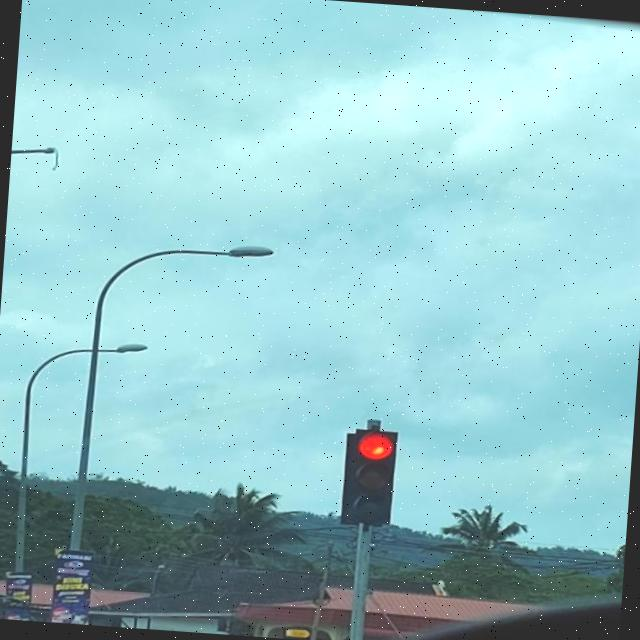red_light: (346, 428, 399, 524)
